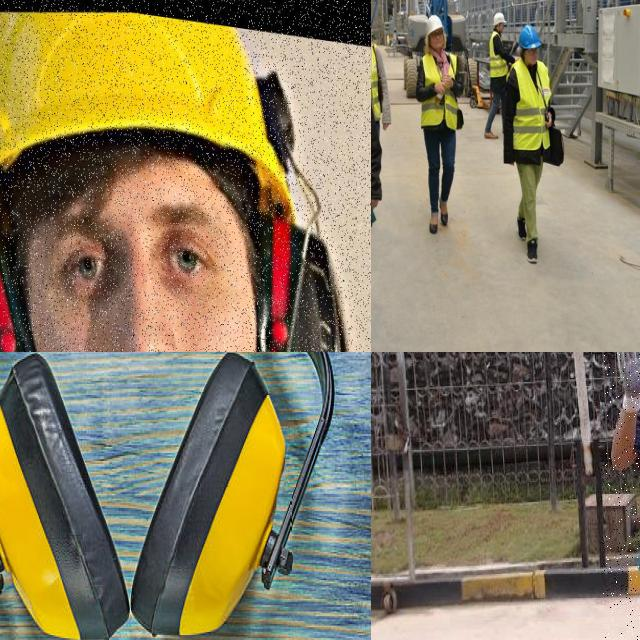Ear-protection: (0, 352, 345, 640), (0, 200, 364, 352)
No_Glasses: (42, 199, 222, 309)
face_nomask: (432, 29, 446, 54)
hand_noglove: (432, 75, 453, 102)
head_helmet: (0, 13, 321, 209), (517, 24, 542, 51), (426, 10, 446, 34), (492, 10, 506, 27)
person: (0, 15, 371, 352), (505, 26, 554, 266), (415, 15, 464, 239), (486, 13, 514, 140), (371, 9, 388, 125)
vest: (508, 59, 554, 151), (420, 54, 460, 130), (371, 39, 387, 113), (488, 32, 509, 77)
